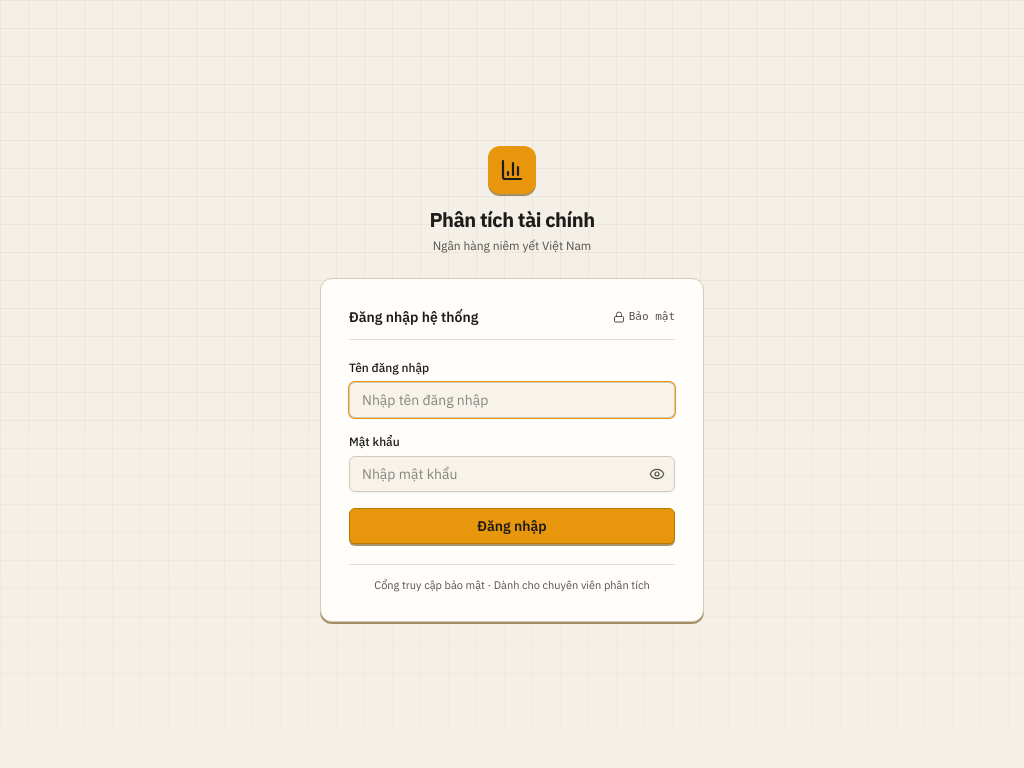
Test: LoginPage › renders login form elements and supports toggling password visibility
The image size is (1024, 768).
Check: the field labelled "Tên đăng nhập" is shown, box [349,382,675,418]
Check: the password field labelled "Mật khẩu" is shown, box [349,456,675,492]
What coordinates should you click on to do the following:
click the button named "Hiện mật khẩu"
I would click on:
 (657, 474)
Its box is [649,466,665,482].
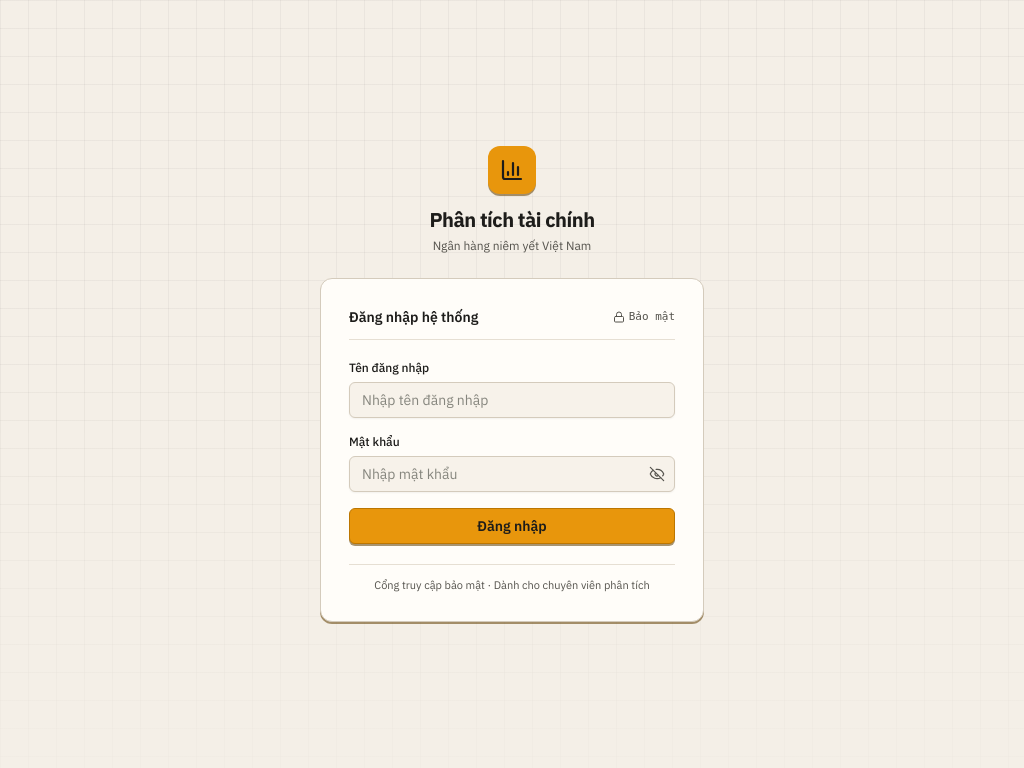
Check: the button named "Ẩn mật khẩu" is shown, box [649,466,665,482]
